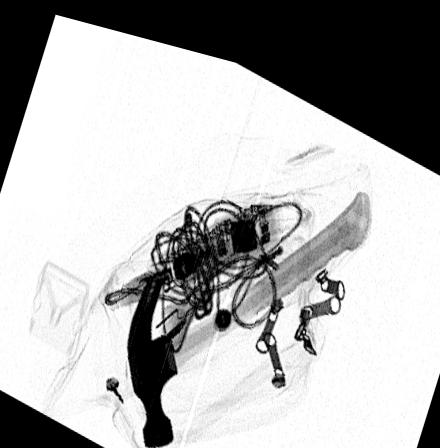Hammer: (125, 170, 372, 441)
